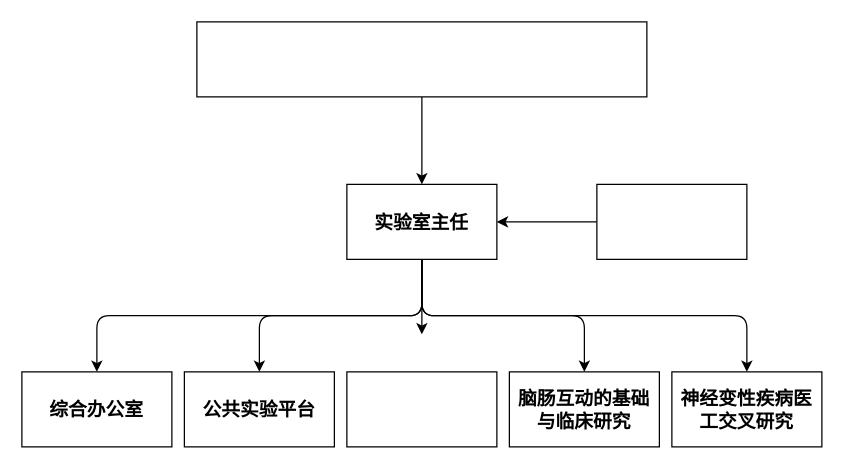
Image size: 844x469. Some labels were removed from this diagram. Each missing label, with the box of its shape:
学术委员会: (596, 183, 747, 259)
平衡功能障碍: (346, 371, 497, 447)
温州市智能医学神经变性疾病重点实验室: (196, 21, 647, 97)
